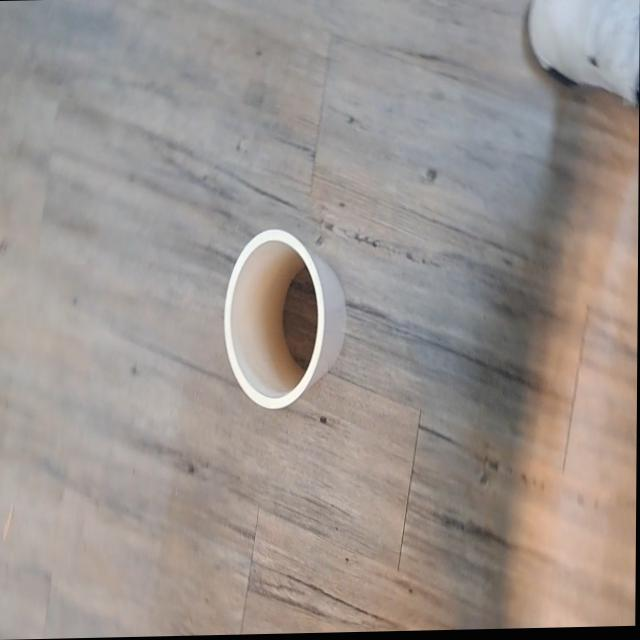CORAL: (205, 197, 357, 430)
